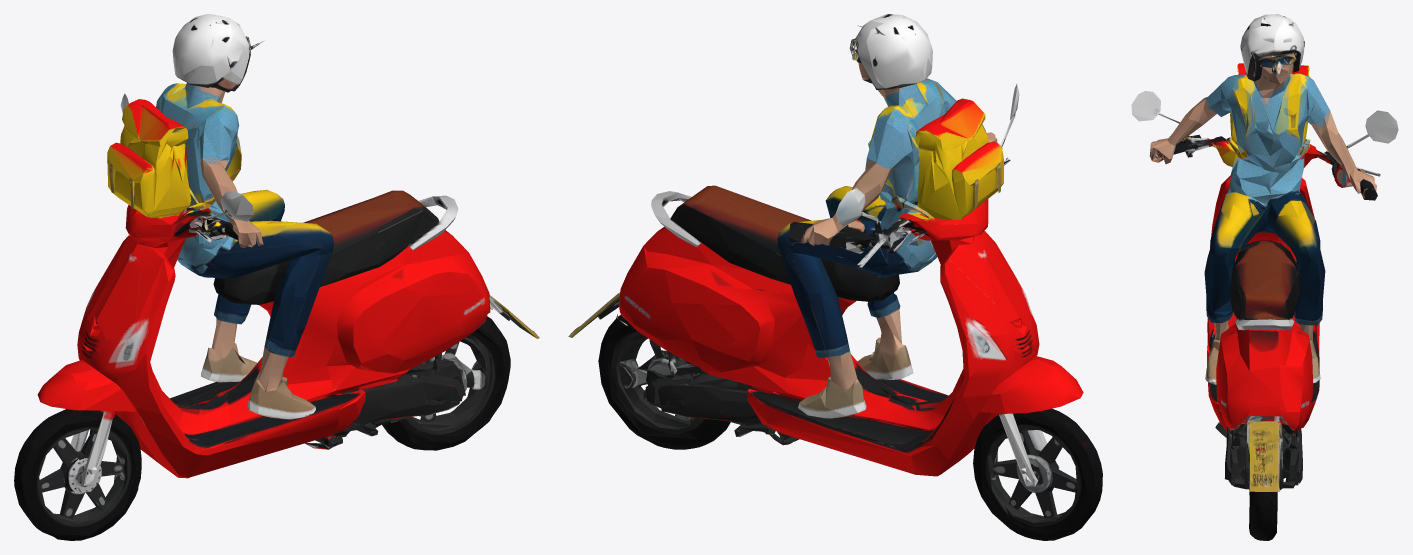
File: xe_may_du_khach.glb
3 views of the same model, side by side, from view 1: azimuth 30°, elevation 25°; view 2: azimuth 150°, elevation 25°; view 3: azimuth 270°, elevation 25° (orthographic). The views are drawn at different scales.
Size of the model in its own units: 1.9 by 1.7 by 0.9745.
1 material, 1 textured.
